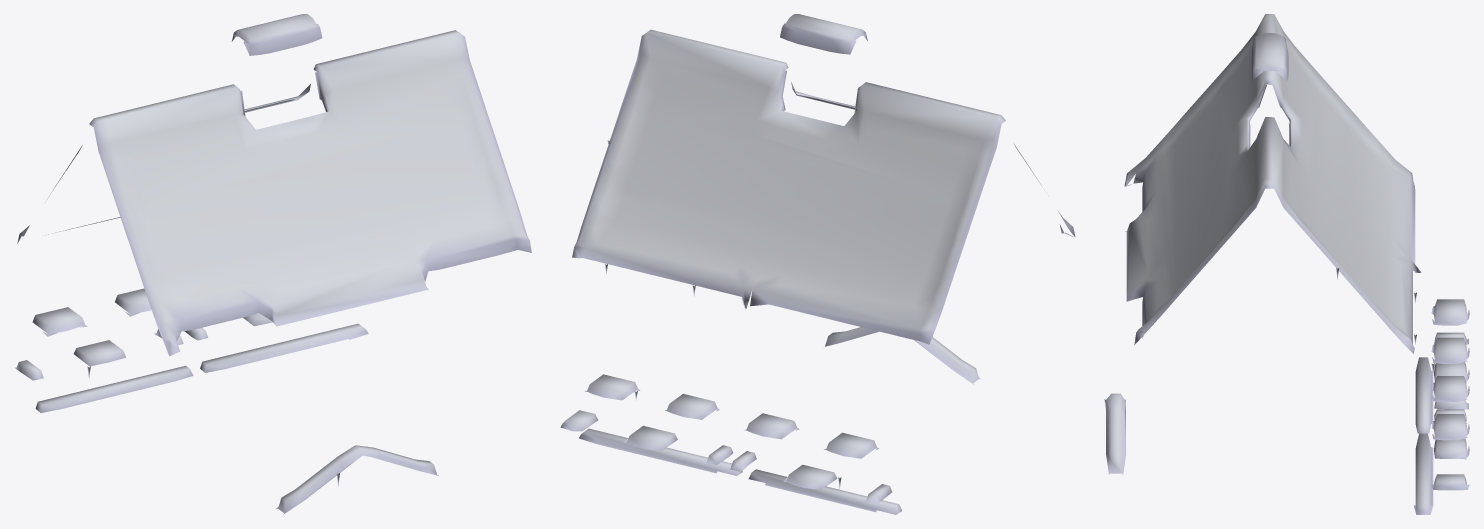
The model's file is hall.wallet.t3.snow.glb.
3 renders of one model, left to right at view 1: azimuth 30°, elevation 25°; view 2: azimuth 150°, elevation 25°; view 3: azimuth 270°, elevation 25°, orthographic. The views are drawn at different scales.
Parts seen in each view (by area): view 1: snow; view 2: snow; view 3: snow.
Part boxes in pixels (x1,y1,x2,y2): snow: [14, 14, 531, 514]; snow: [560, 14, 1075, 514]; snow: [1104, 14, 1469, 514].
Size of the model in its own units: 4.54 by 4.77 by 4.04.
